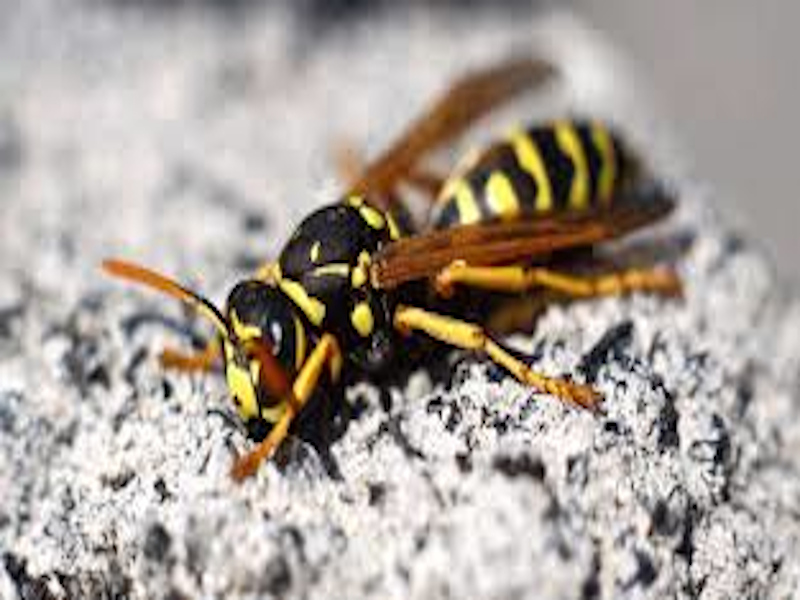chax: (90, 46, 709, 512)
